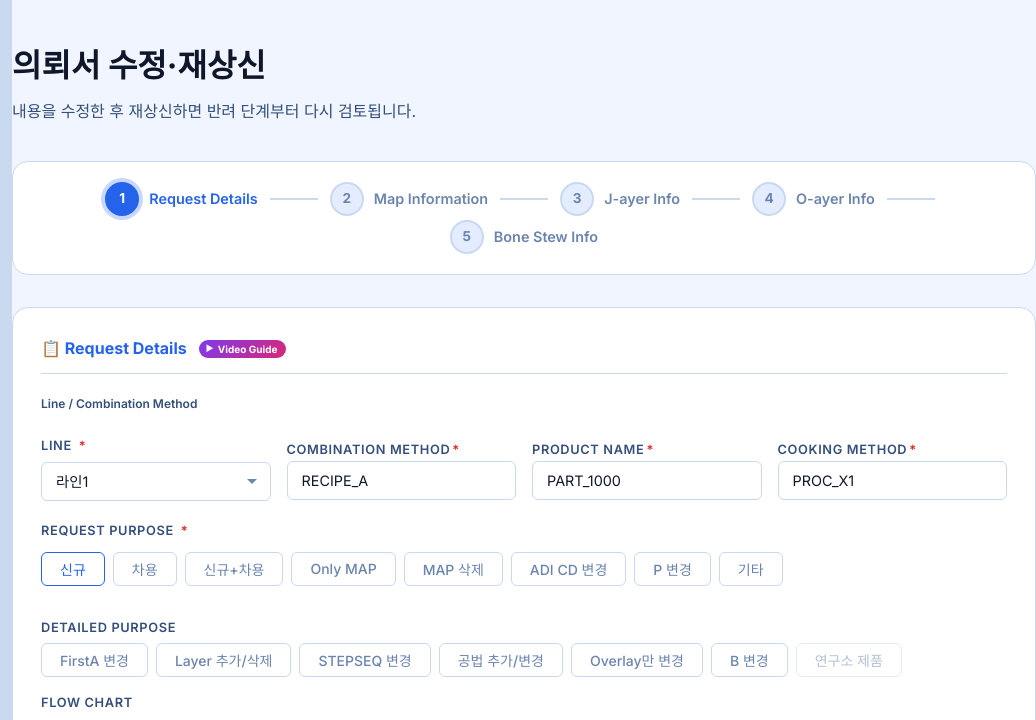
Test: 상세 목적 'Overlay만 변경'은 단독으로만 선택된다 › 충돌이 없는 선택·해제는 모달 없이 바로 반영된다
Click the button with class "map-type-btn" showing "FirstA 변경" at point(94, 660), box [41,643,148,677]
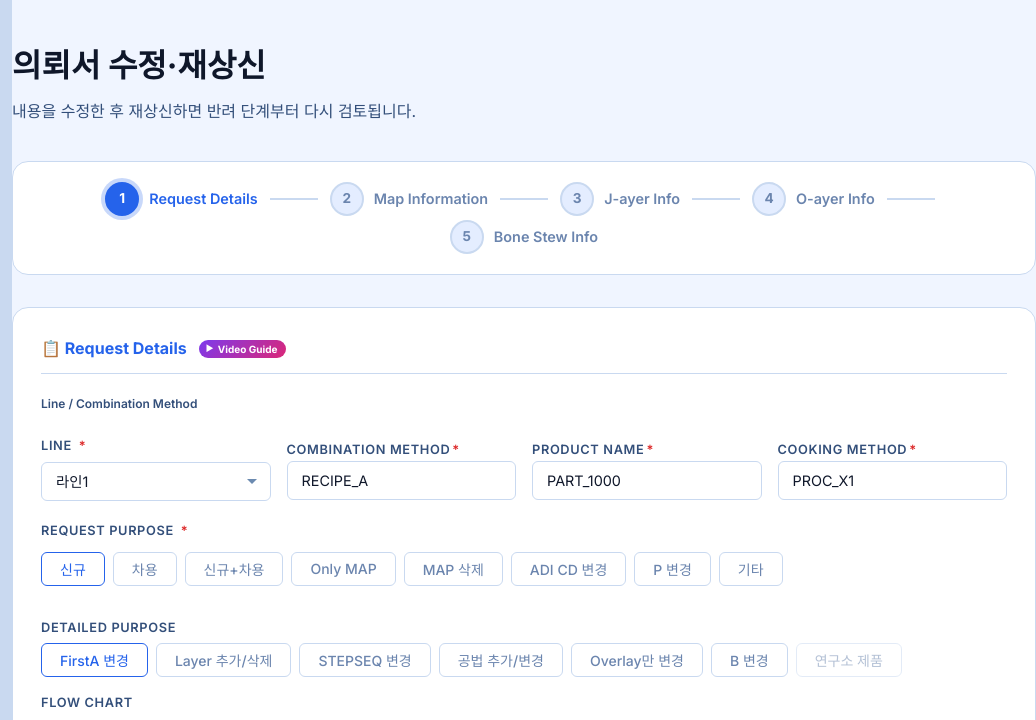
Click the button with class "map-type-btn" showing "STEPSEQ 변경" at point(365, 660), box [299,643,431,677]
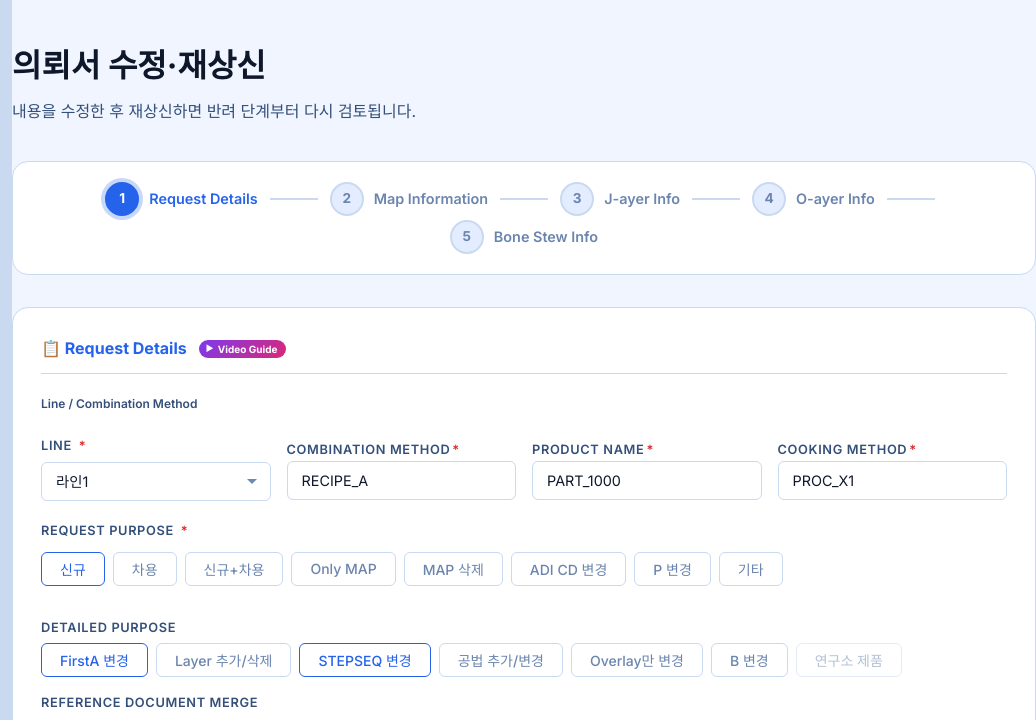
Expected: the text "Overlay-only Change: Select Alone" is not shown
Click the button with class "map-type-btn" showing "FirstA 변경" at point(94, 660), box [41,643,148,677]
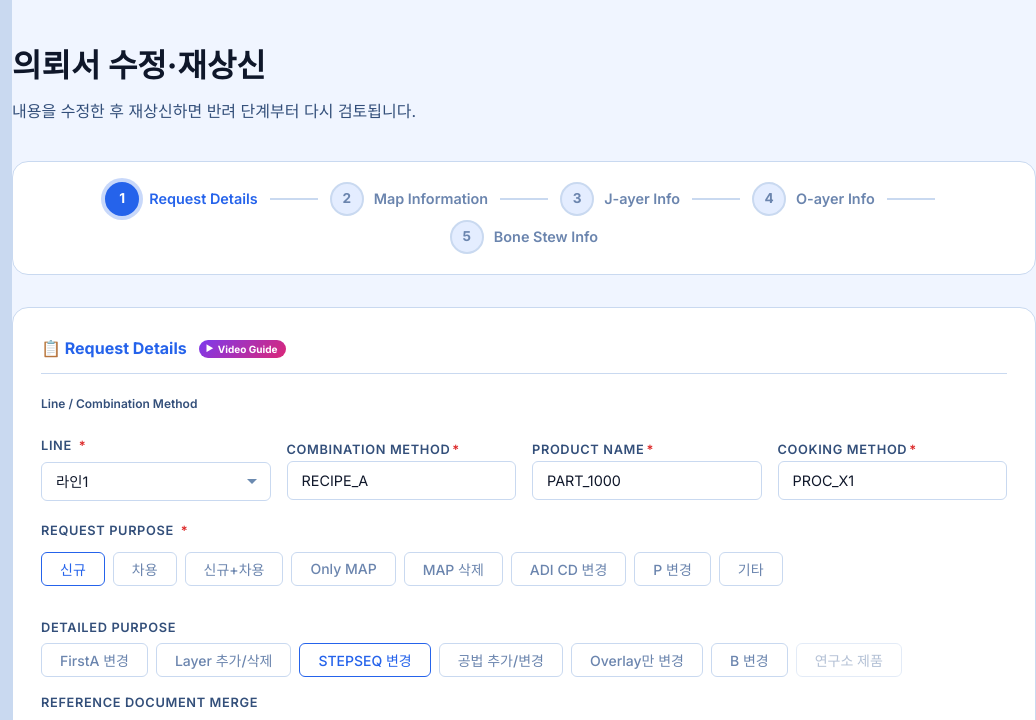
Expected: the text "Overlay-only Change: Select Alone" is not shown
Click the button with class "map-type-btn" showing "Overlay만 변경" at point(637, 660), box [571,643,703,677]
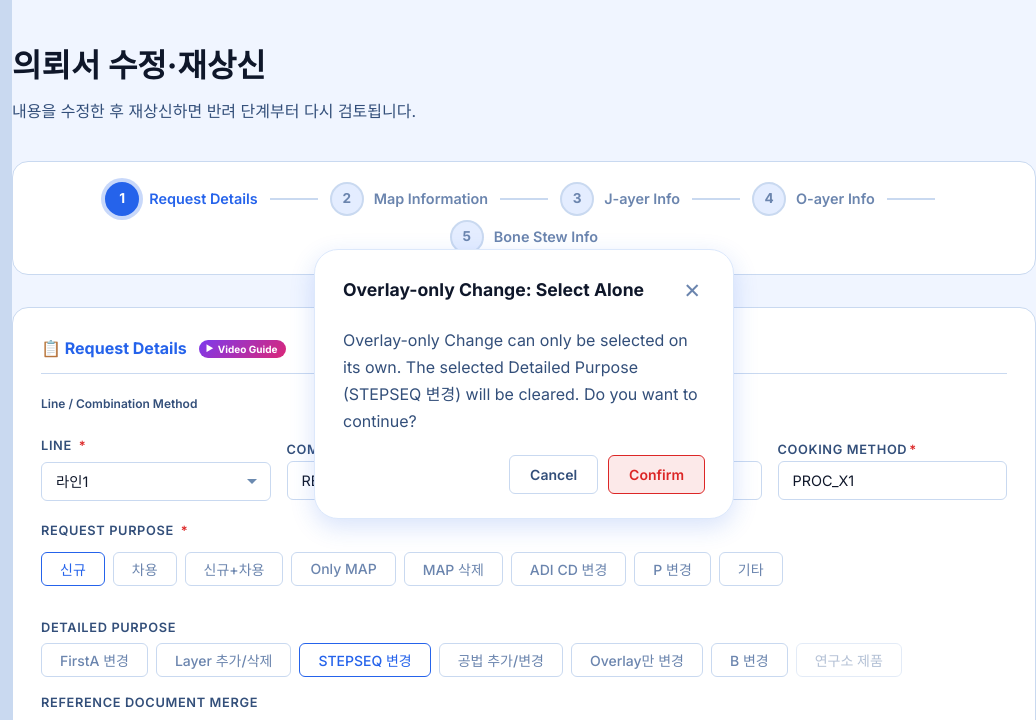
Expected: the heading "Overlay-only Change: Select Alone" is shown, [343,276,644,304]
